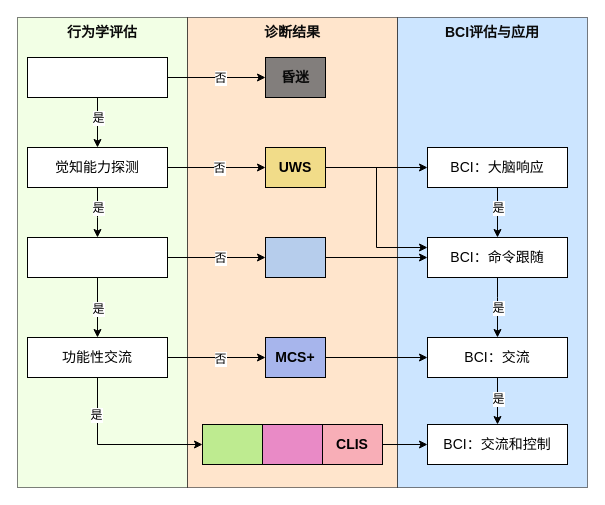
Some shapes in this 605 by 505 pixel diagram are drawn without their labels. The shapes that lost their labels are listed below. From the top down, each one's centre as x and y in pixels, then its label:
the point at 97,77: 是否觉醒
the point at 97,257: 命令跟随
the point at 295,257: MCS-
the point at 232,444: EMCS
the point at 292,444: LIS
